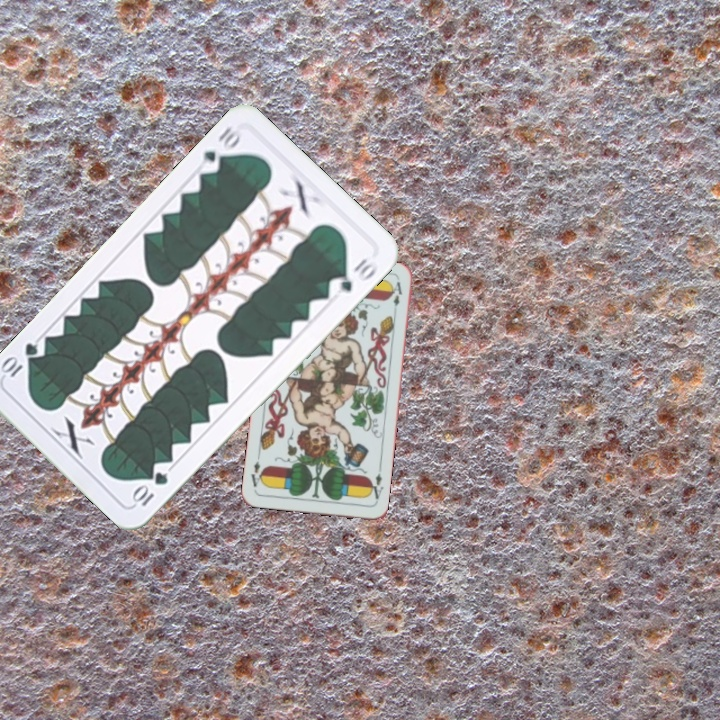EA: (365, 464, 386, 505)
G10: (195, 121, 245, 177), (128, 467, 171, 509)
